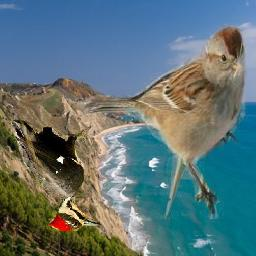Sparrow: (81, 21, 252, 219)
Woodpecker: (12, 119, 103, 231)
